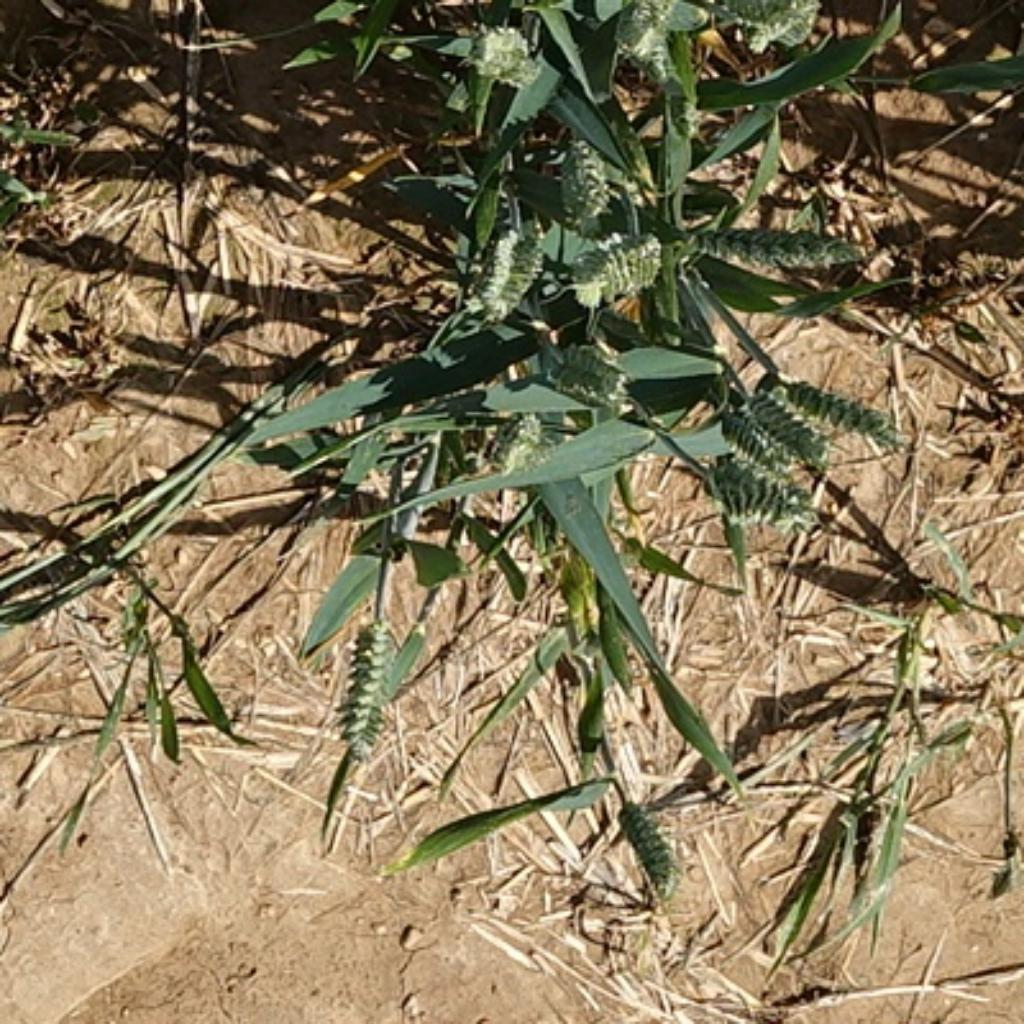0-0: (680, 212, 860, 279), (784, 368, 908, 452), (461, 221, 546, 334), (332, 606, 399, 742), (565, 227, 678, 304), (519, 330, 632, 407), (702, 456, 818, 529), (612, 792, 688, 900), (545, 130, 619, 225), (611, 0, 683, 89), (713, 409, 816, 470), (458, 15, 542, 89), (772, 0, 862, 67), (750, 389, 841, 455), (488, 407, 563, 483), (718, 0, 785, 52)
